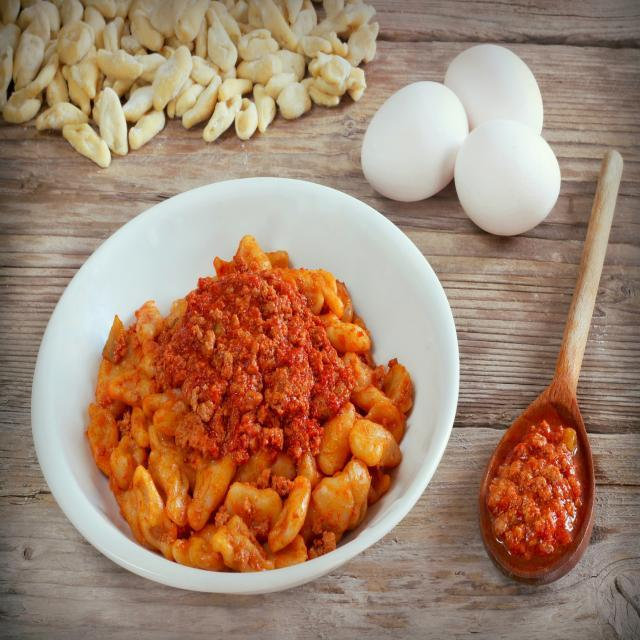Pasta al ragu: (50, 193, 463, 585)
